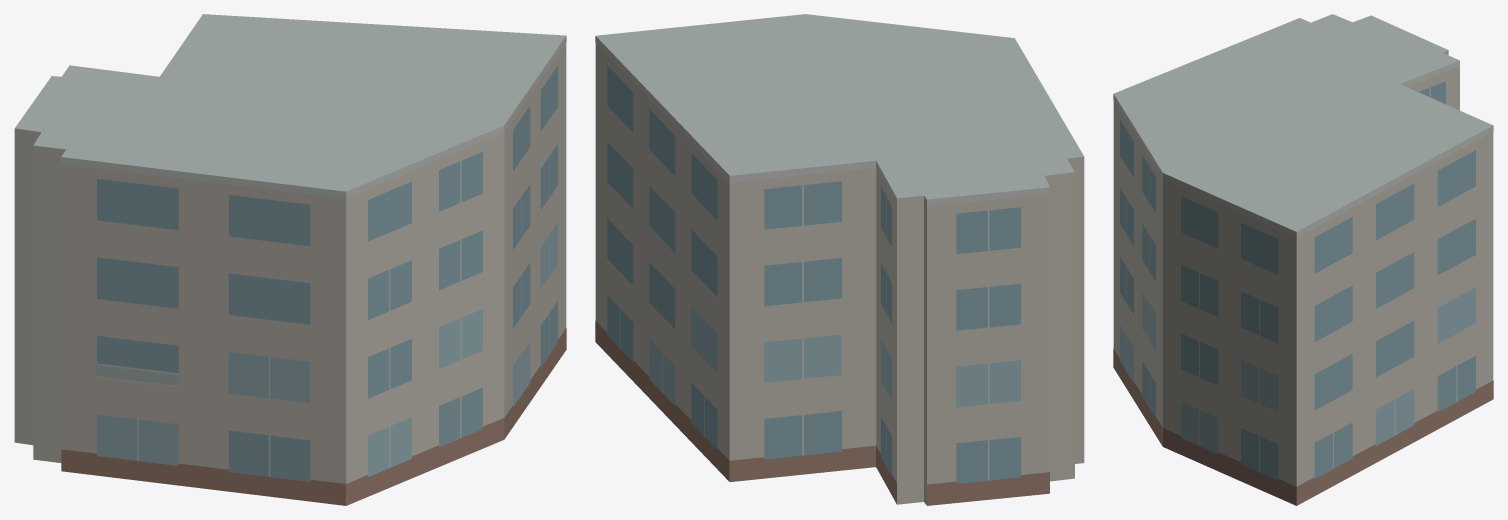
Rendered from survey-upis-32923205.glb.
The picture shows the model from 3 angles, left to right: view 1: azimuth 30°, elevation 25°; view 2: azimuth 150°, elevation 25°; view 3: azimuth 270°, elevation 25°; orthographic projection. The views are drawn at different scales.
Visible parts, largest first — view 1: survey-upis-32923205.tmp; view 2: survey-upis-32923205.tmp; view 3: survey-upis-32923205.tmp.
Part boxes in pixels (x1,y1,x2,y2): survey-upis-32923205.tmp: (14,14,566,505); survey-upis-32923205.tmp: (595,14,1084,505); survey-upis-32923205.tmp: (1113,14,1493,505).
Bounding box in the file's own units: 18.43 × 10.8 × 13.58.
